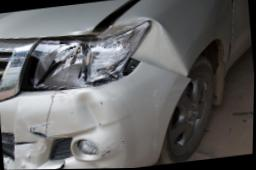Bonnet: (63, 0, 140, 38)
Bumper: (5, 58, 193, 170)
